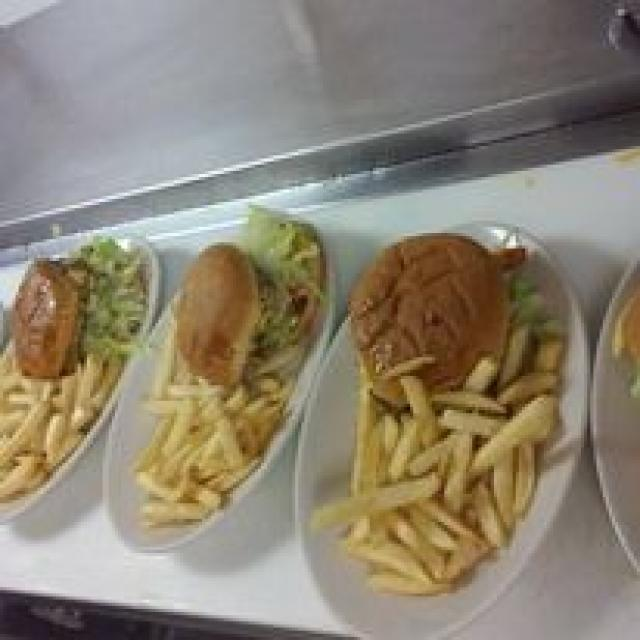Burger: (12, 205, 637, 370)
French Fries: (1, 358, 558, 570)
